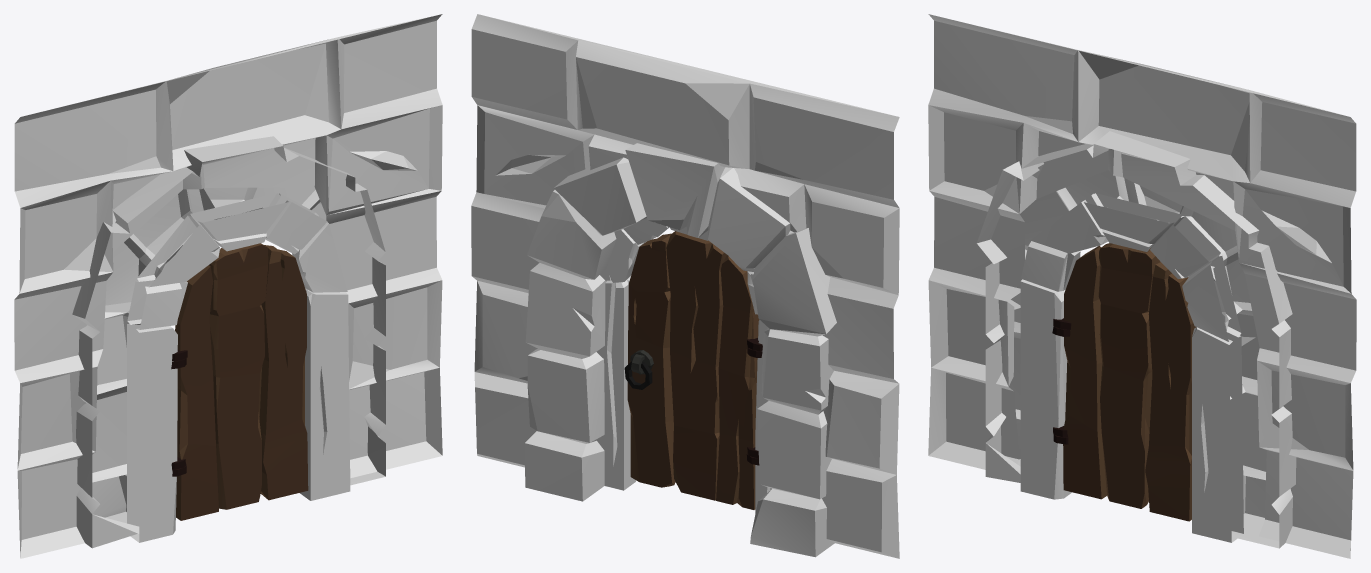
File: NGF_Env_Stone_doorway_03.fbx
3 renders of one model, left to right at view 1: azimuth 30°, elevation 25°; view 2: azimuth 150°, elevation 25°; view 3: azimuth 330°, elevation 25°, orthographic.
Visible parts, largest first — view 1: NGF_Env_Stone_doorway_03, NGF_Env_Door_arc_05, NGF_Env_Door_08; view 2: NGF_Env_Stone_doorway_03, NGF_Env_Door_08, NGF_Env_Door_arc_05; view 3: NGF_Env_Stone_doorway_03, NGF_Env_Door_arc_05, NGF_Env_Door_08.
Part boxes in pixels (x1,y1,x2,y2): NGF_Env_Stone_doorway_03: (14,14,442,558); NGF_Env_Door_arc_05: (127,193,350,542); NGF_Env_Door_08: (175,243,308,520); NGF_Env_Stone_doorway_03: (471,14,899,558); NGF_Env_Door_08: (627,231,759,509); NGF_Env_Door_arc_05: (596,218,771,513); NGF_Env_Stone_doorway_03: (928,14,1356,558); NGF_Env_Door_arc_05: (1020,193,1243,542); NGF_Env_Door_08: (1063,243,1195,521).
Size of the model in its own units: 4 by 4 by 0.6027.
Materials: 1 (1 with a texture image).
